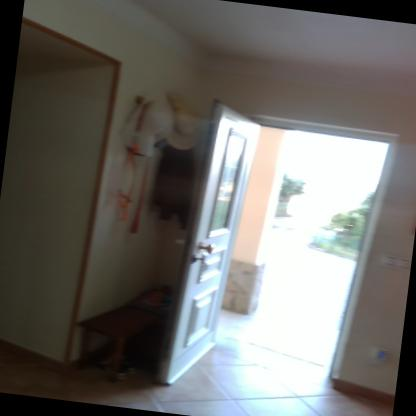open: (162, 76, 410, 415)
